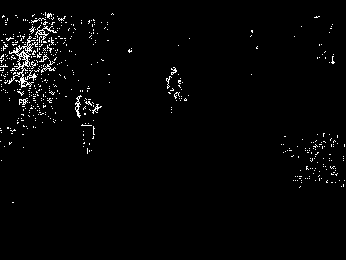person: (75, 85, 103, 156), (165, 65, 190, 117)
